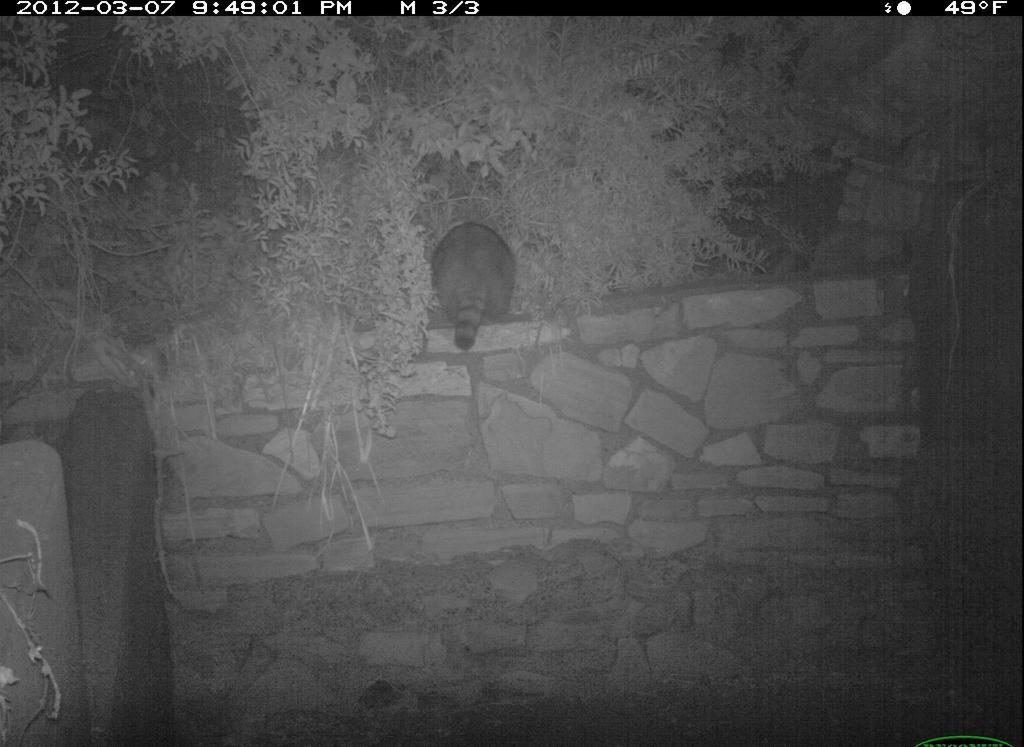raccoon: (423, 214, 534, 372)
